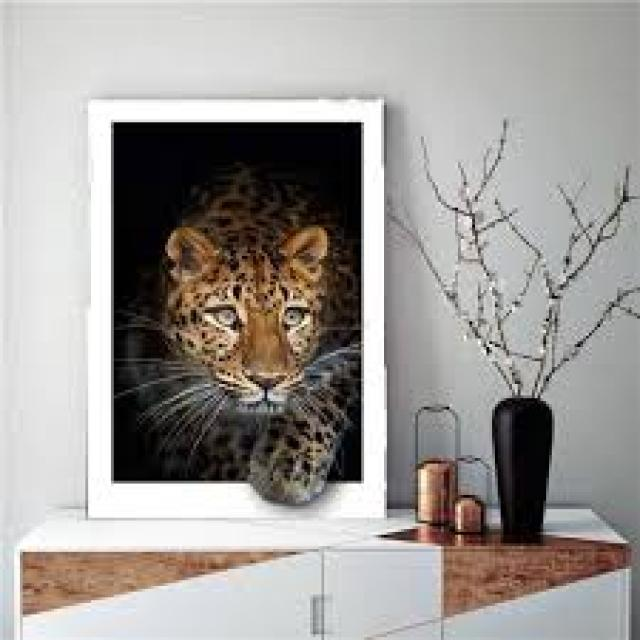Jaguar: (131, 165, 358, 481)
